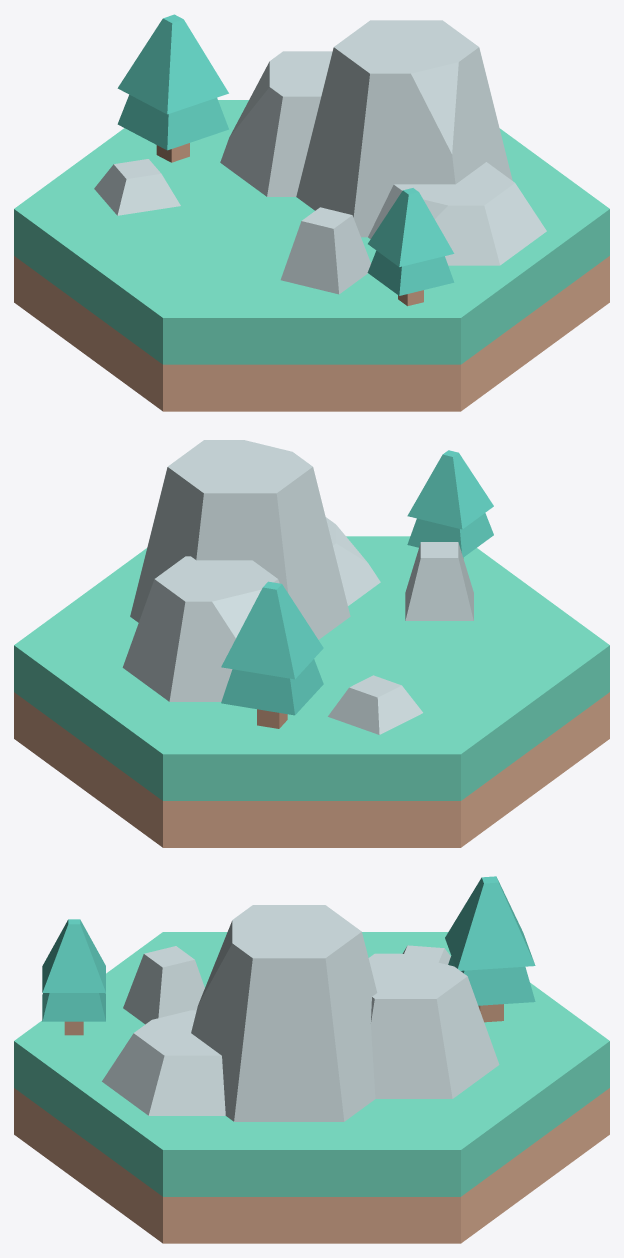
File: StoneCell.fbx
3 renders of one model, top to bottom at view 1: azimuth 30°, elevation 25°; view 2: azimuth 150°, elevation 25°; view 3: azimuth 270°, elevation 25°, orthographic.
Visible parts, largest first — view 1: building_mine, StoneMine, Tree, Tree1, Rock, Rock1; view 2: building_mine, StoneMine, Tree, Tree1, Rock, Rock1; view 3: building_mine, StoneMine, Tree, Tree1, Rock, Rock1.
Boxes of the visible parts, left/top/right/bottom form: building_mine: left=14, top=100, right=609, bottom=411; StoneMine: left=220, top=20, right=546, bottom=265; Tree: left=117, top=14, right=228, bottom=162; Tree1: left=367, top=188, right=454, bottom=306; Rock: left=280, top=207, right=370, bottom=294; Rock1: left=94, top=159, right=180, bottom=215; building_mine: left=14, top=536, right=609, bottom=847; StoneMine: left=122, top=440, right=380, bottom=701; Tree: left=221, top=581, right=323, bottom=728; Tree1: left=407, top=450, right=493, bottom=558; Rock: left=405, top=542, right=473, bottom=620; Rock1: left=328, top=675, right=422, bottom=734; building_mine: left=14, top=932, right=609, bottom=1243; StoneMine: left=102, top=905, right=499, bottom=1121; Tree: left=445, top=876, right=535, bottom=1022; Tree1: left=42, top=919, right=105, bottom=1035; Rock: left=123, top=946, right=204, bottom=1024; Rock1: left=402, top=945, right=450, bottom=964.
Bounding box in the file's own units: 100 × 52.04 × 115.
